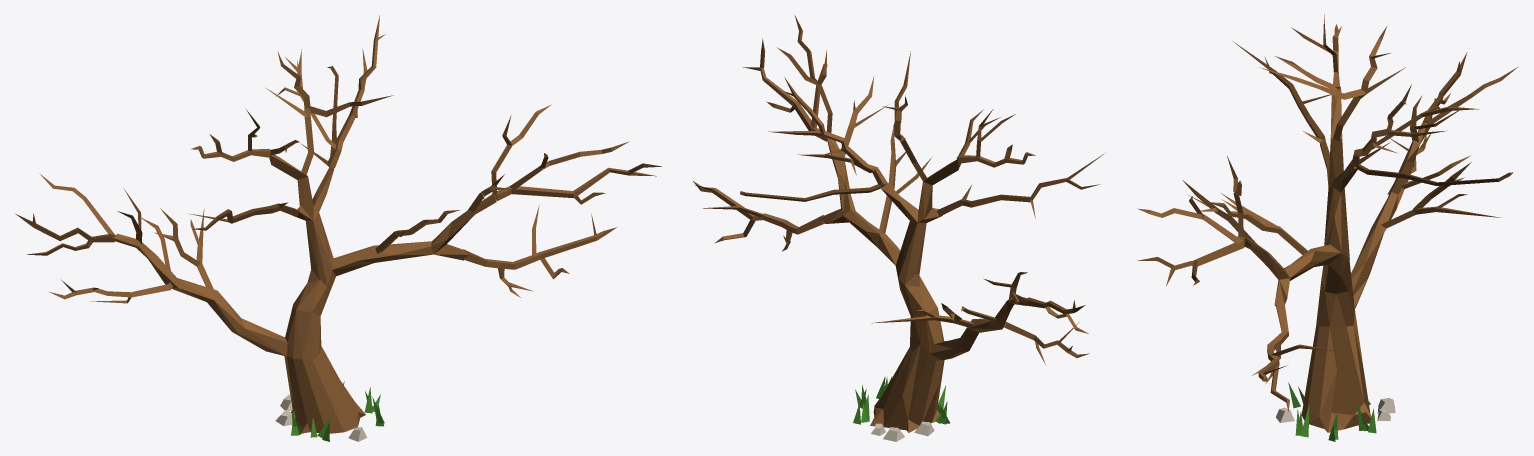
The model's file is cherry_2_bare.glb.
3 views of the same model, side by side, from view 1: azimuth 30°, elevation 25°; view 2: azimuth 150°, elevation 25°; view 3: azimuth 270°, elevation 25° (orthographic). The views are drawn at different scales.
Parts seen in each view (by area): view 1: cherry_2_bare; view 2: cherry_2_bare; view 3: cherry_2_bare.
Boxes of the visible parts, <box> form: cherry_2_bare: <box>15,15,661,441</box>; cherry_2_bare: <box>693,15,1104,441</box>; cherry_2_bare: <box>1137,14,1518,441</box>.
Bounding box in the file's own units: 9.73 × 6.63 × 6.06.
